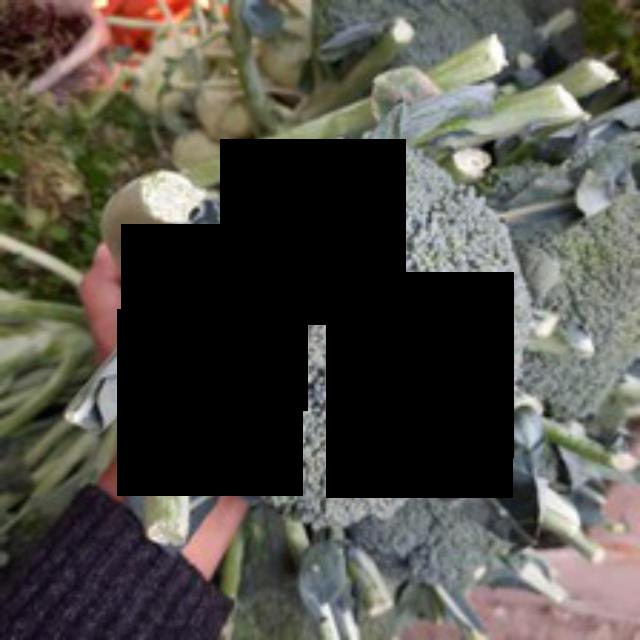broccoli: (160, 128, 529, 526)
